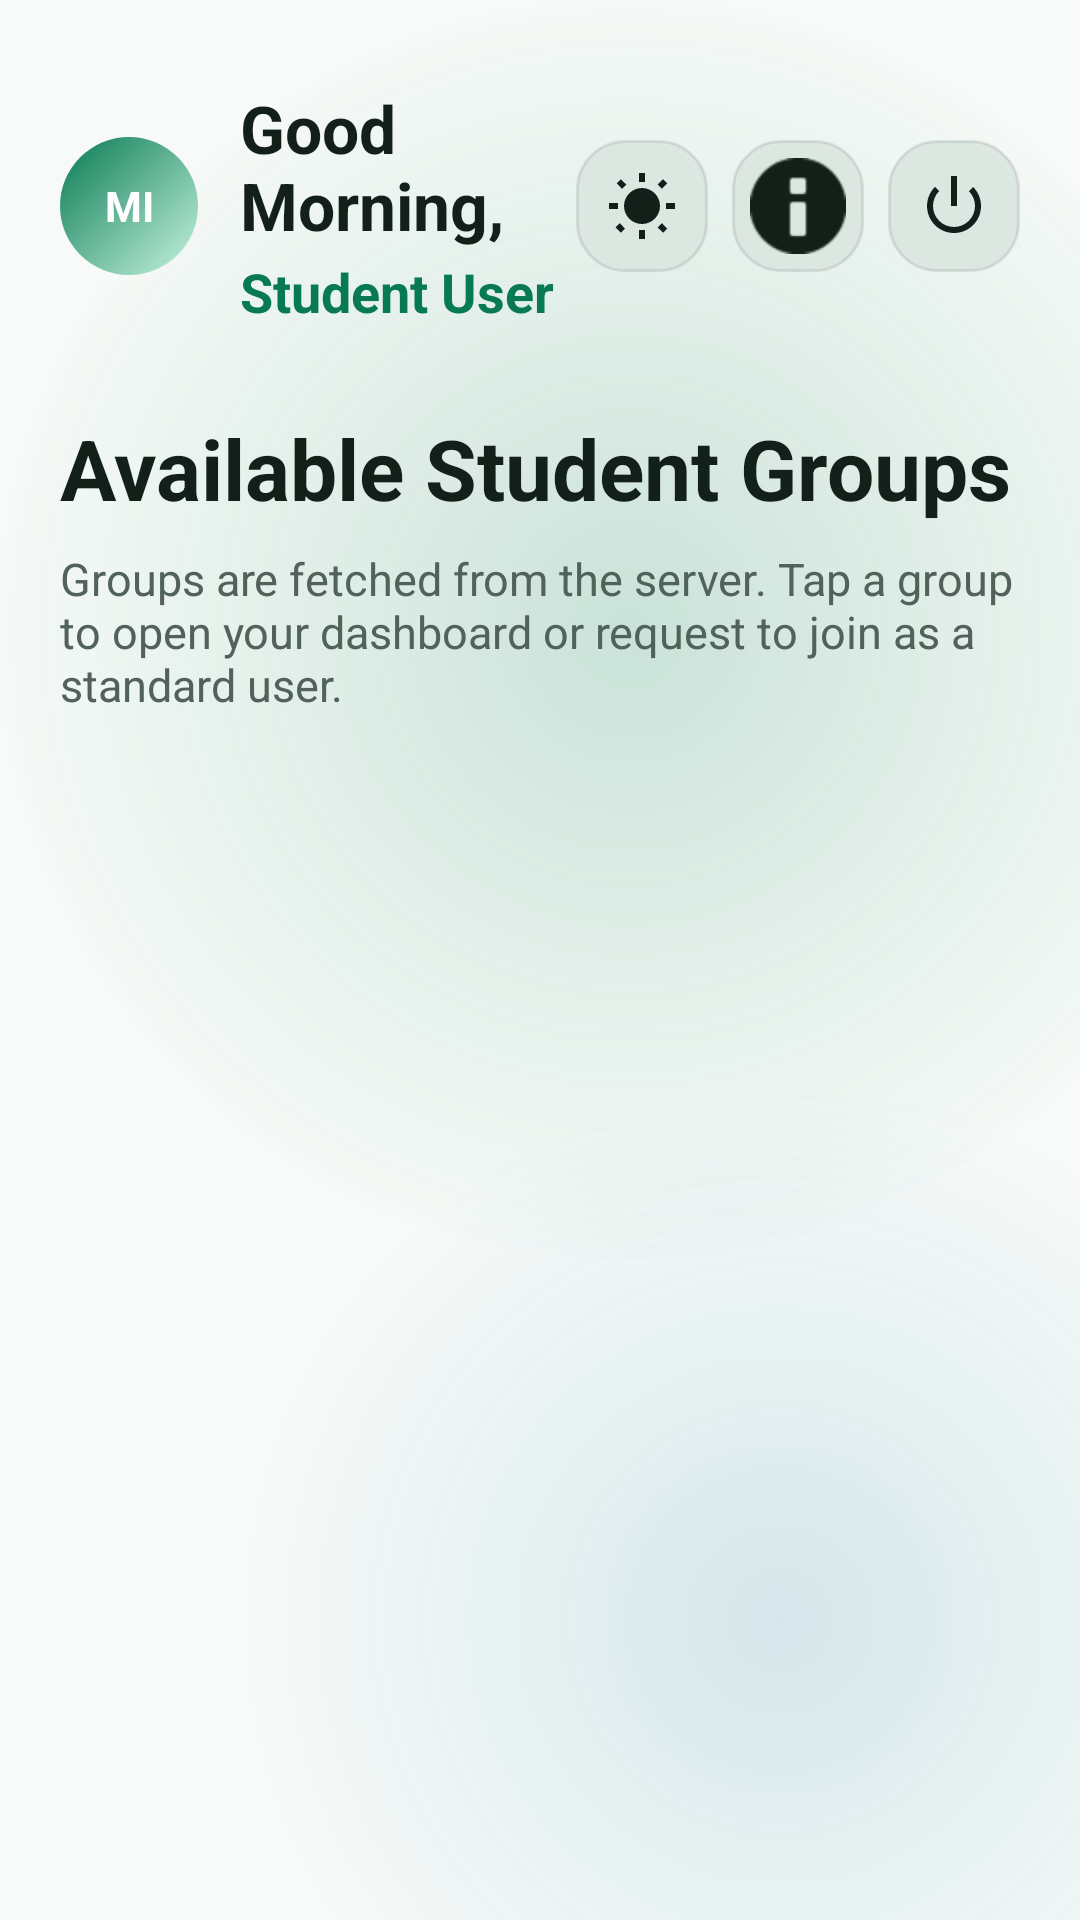

Icon bounding boxes for this 1080×1920 phone screenshot, format (x1, y1, x2, y2):
About: (732, 140, 864, 272)
Switch UI mode: (576, 140, 708, 272)
